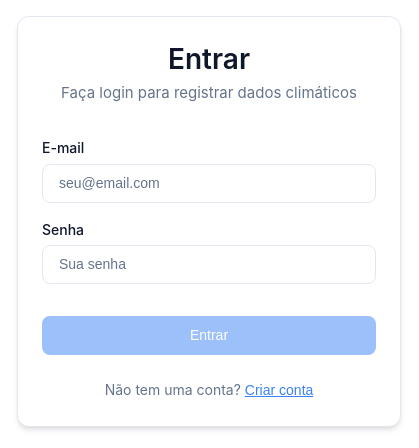
LoginView › should enable submit button when login form is valid
Type "aliare@test.com" into the field with id "email".
click(209, 183); type("aliare@test.com")  # box [42,164,376,203]
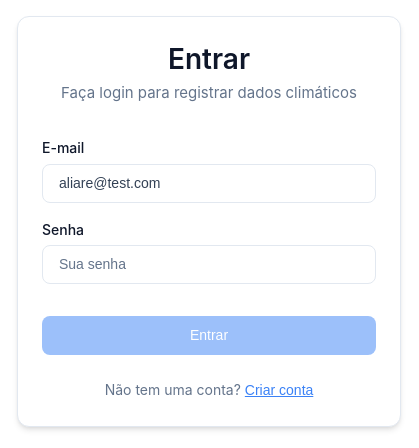
Type "123456" into the password field labelled "Senha".
click(209, 265); type("123456")  # box [42,245,376,284]
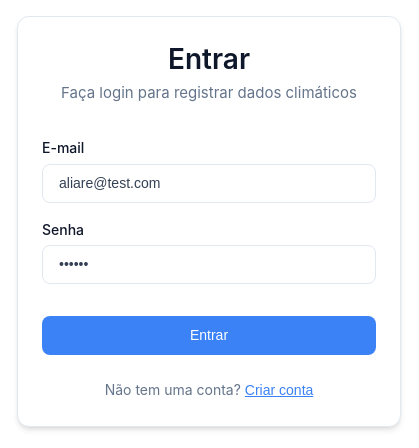
Expected: the submit button is enabled, [42,316,376,355]
